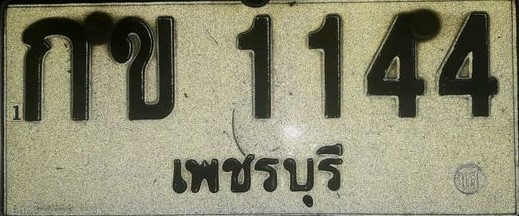txt01: (18, 15, 92, 123)
txt02: (106, 13, 180, 122)
